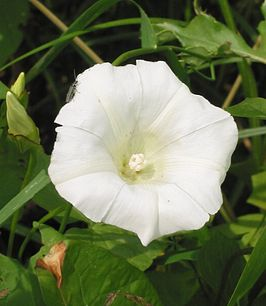haagwinde: (45, 60, 241, 250)
